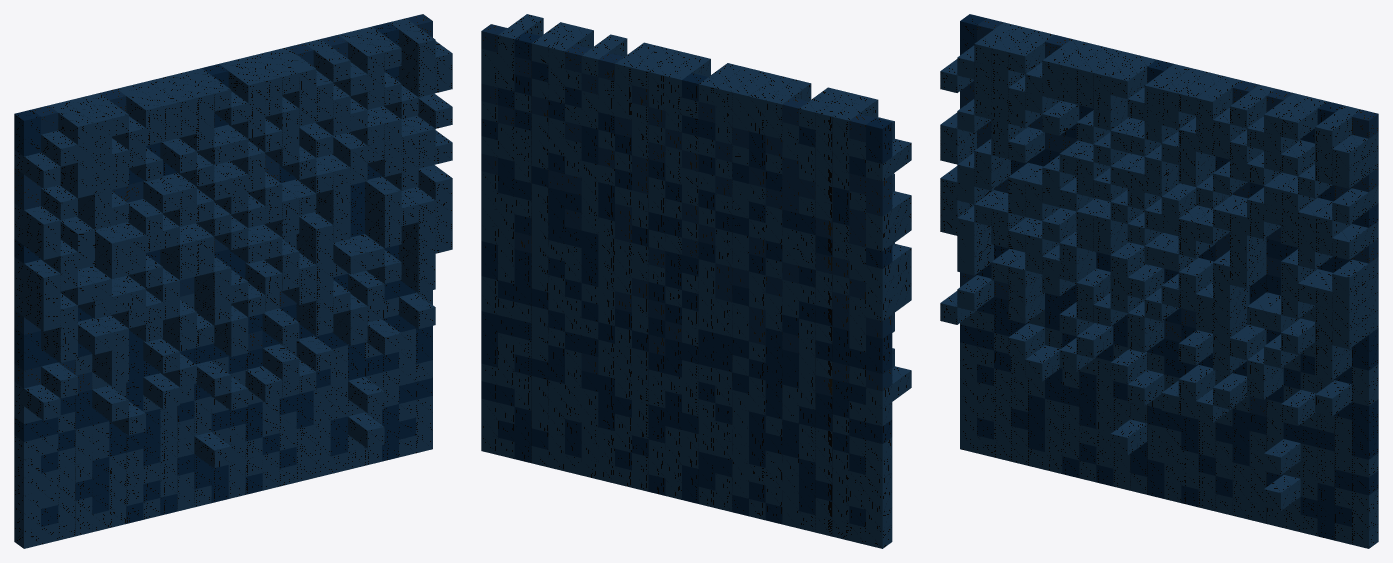
3 views of the same model, side by side, from view 1: azimuth 30°, elevation 25°; view 2: azimuth 150°, elevation 25°; view 3: azimuth 330°, elevation 25° (orthographic).
Size of the model in its own units: 2.4 by 2.4 by 0.3.
